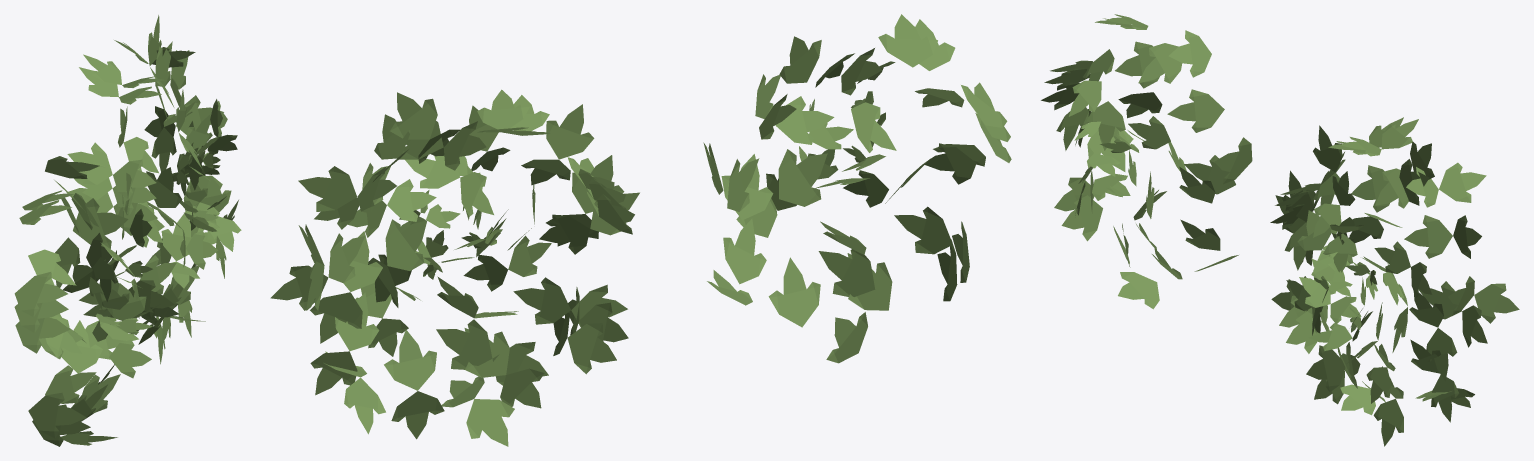
File: 40_openskp_material_5.obj
The picture shows the model from 3 angles, left to right: view 1: azimuth 30°, elevation 25°; view 2: azimuth 150°, elevation 25°; view 3: azimuth 270°, elevation 25°; orthographic projection. The views are drawn at different scales.
Parts seen in each view (by area): view 1: 40_openskp_material_5; view 2: 40_openskp_material_5; view 3: 40_openskp_material_5.
Part boxes in pixels (left/top/right/bottom): 40_openskp_material_5: left=14, top=15, right=241, bottom=446; 40_openskp_material_5: left=270, top=14, right=1011, bottom=446; 40_openskp_material_5: left=1041, top=14, right=1519, bottom=446.
Size of the model in its own units: 19.21 by 14.47 by 20.57.
